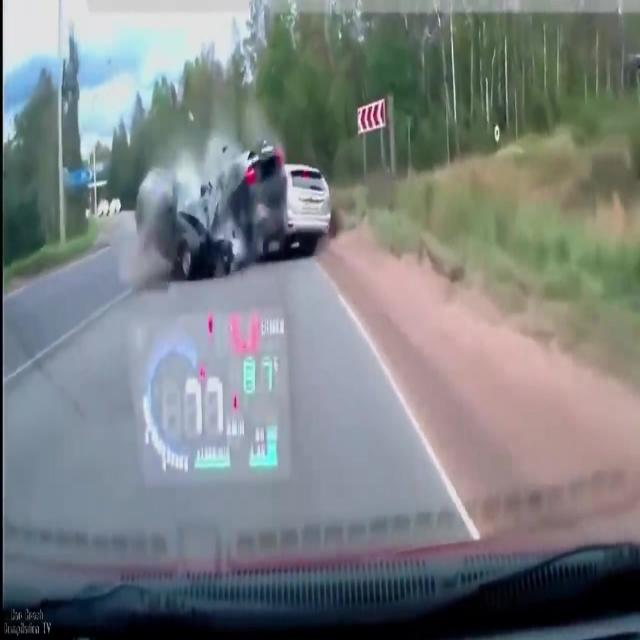accident: (120, 124, 327, 288)
